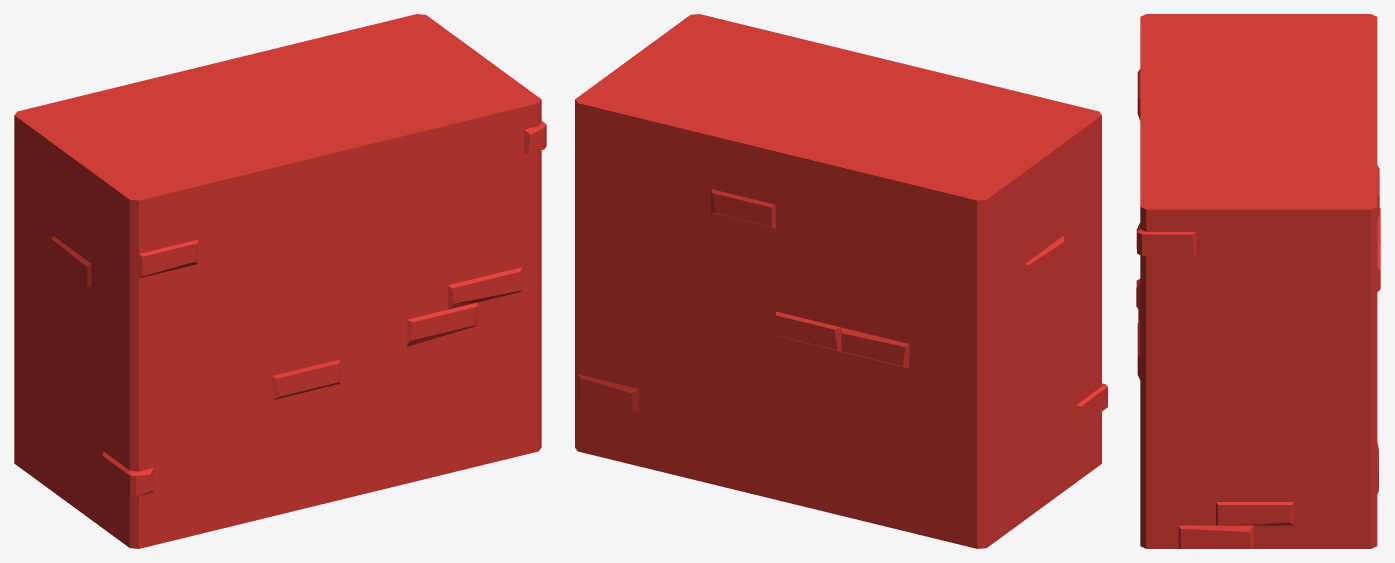
File: SM_Chimney_Christmas_1m.fbx
3 views of the same model, side by side, from view 1: azimuth 30°, elevation 25°; view 2: azimuth 150°, elevation 25°; view 3: azimuth 270°, elevation 25° (orthographic). The views are drawn at different scales.
Parts seen in each view (by area): view 1: chimney-christmas-1m; view 2: chimney-christmas-1m; view 3: chimney-christmas-1m.
Part boxes in pixels (<box>): chimney-christmas-1m: <box>14,14,546,548</box>; chimney-christmas-1m: <box>575,14,1107,548</box>; chimney-christmas-1m: <box>1136,14,1380,548</box>.
Size of the model in its own units: 1.26 by 1 by 0.6522.
